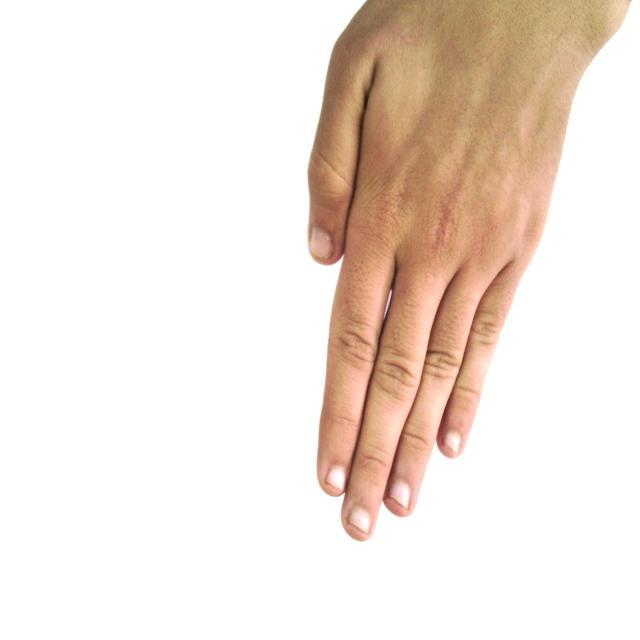Fingernail: (310, 227, 332, 261), (389, 479, 411, 508), (349, 507, 370, 534), (326, 465, 346, 491), (445, 430, 462, 452)
